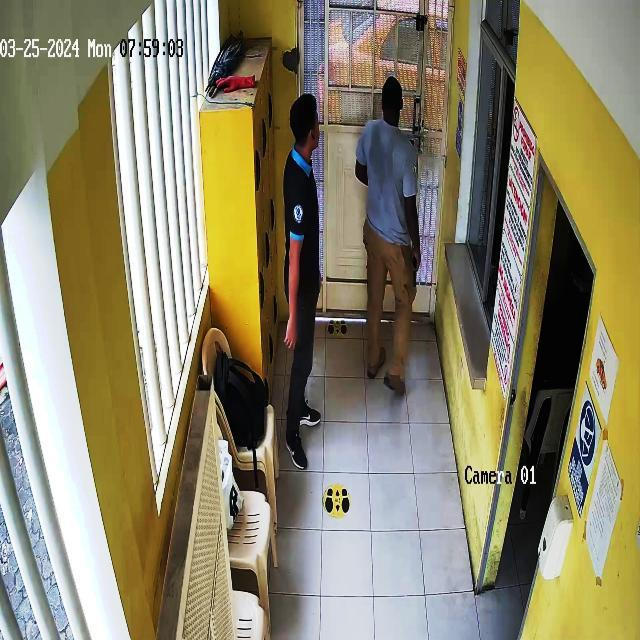Gun: (402, 240, 433, 302)
